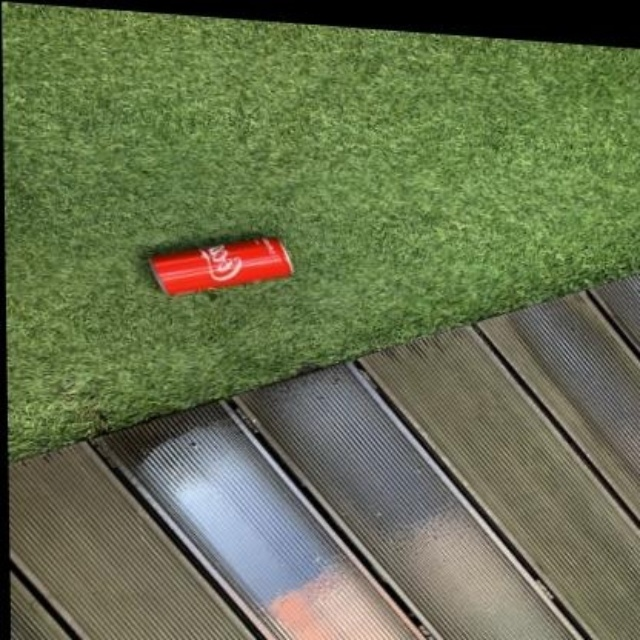trash: (149, 237, 292, 294)
